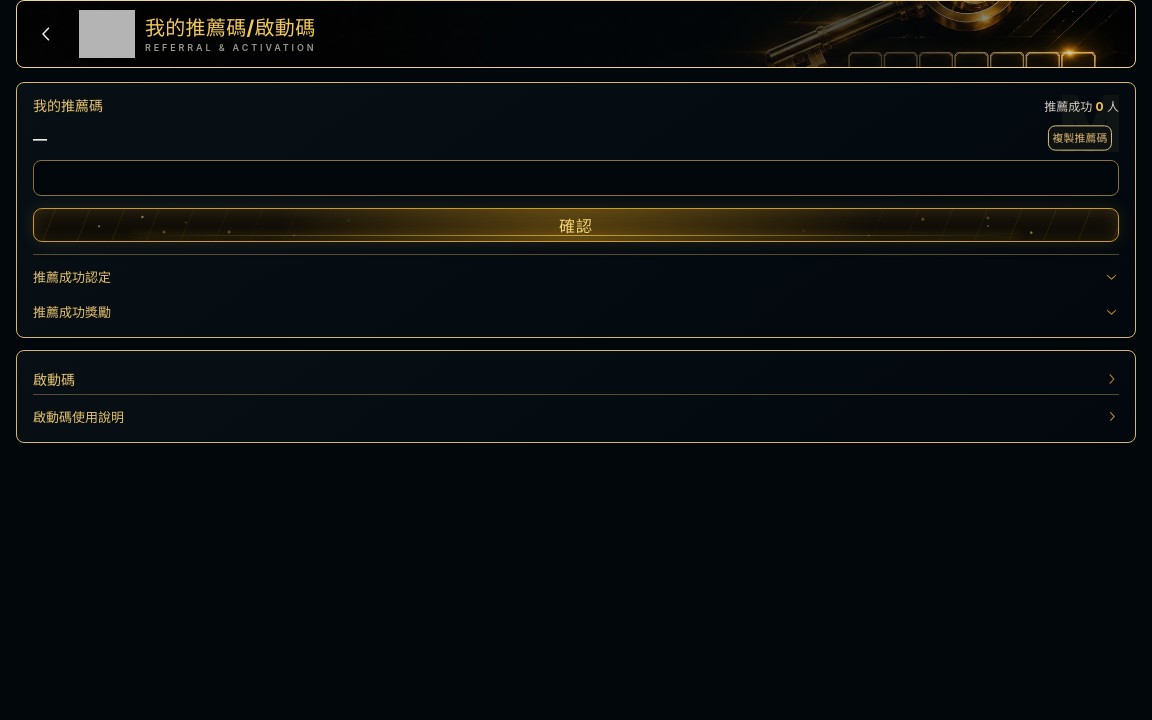
Test: existing feature actions › keeps the activation-code input collapsed until the user opens it
Click the button "啟動碼" at (54, 379), box [33,363,1119,395]
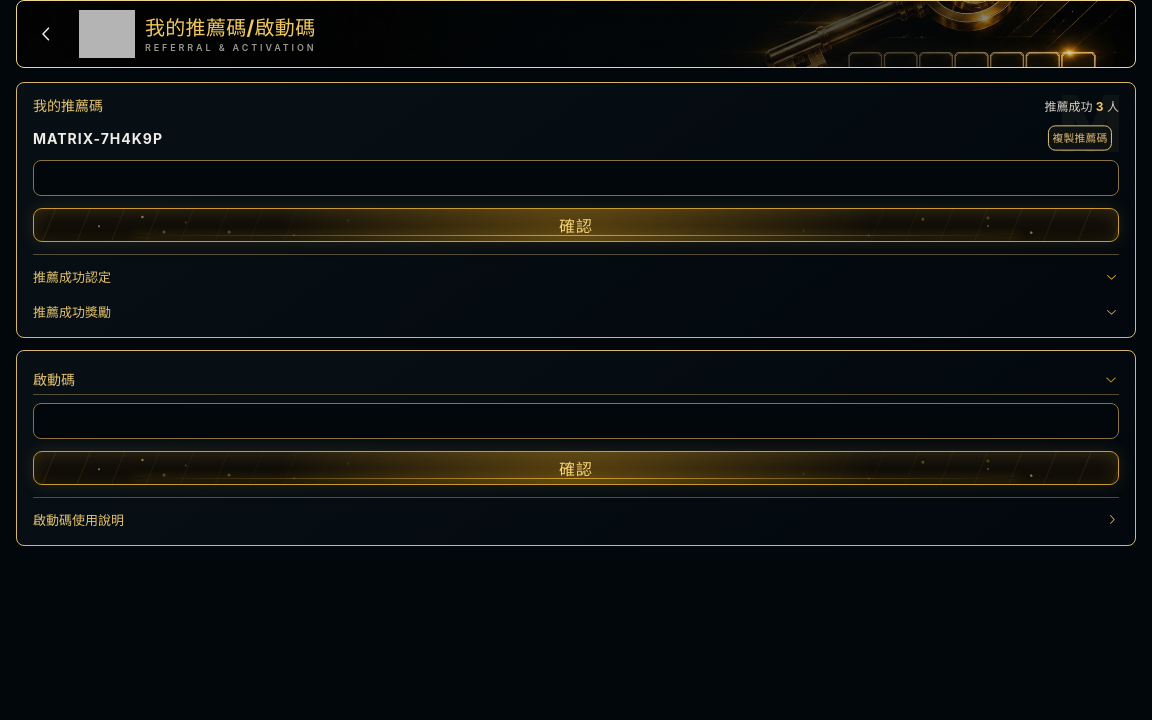
Result: the button "啟動碼" is expanded at [33,363,1119,395]
Result: the field named "啟動碼" is shown at [33,403,1119,439]
Result: the 2nd button "確認" is enabled at [33,451,1119,485]
